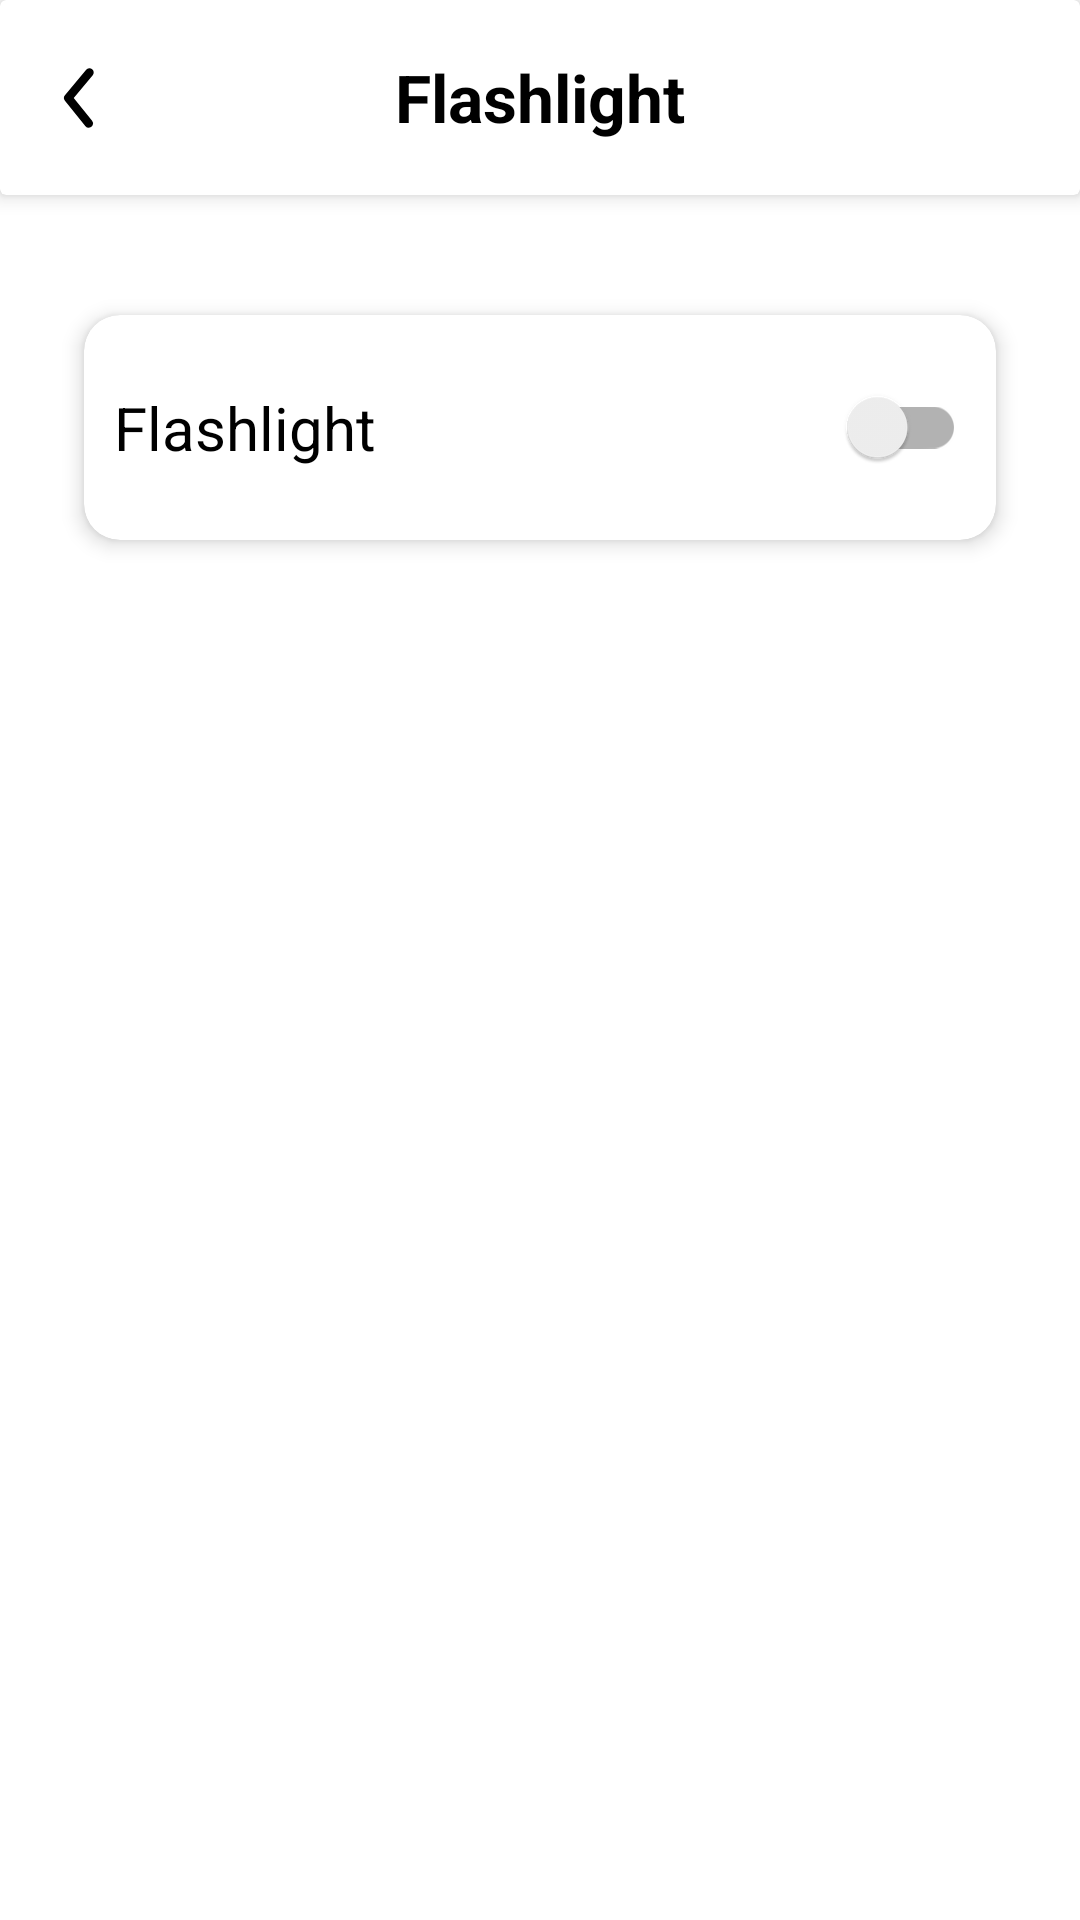

Icons on this 1080 × 1920 Android screen, each with its box as bbox=[x1, y1, x2, y2]:
back arrow: bbox=[64, 68, 94, 128]
